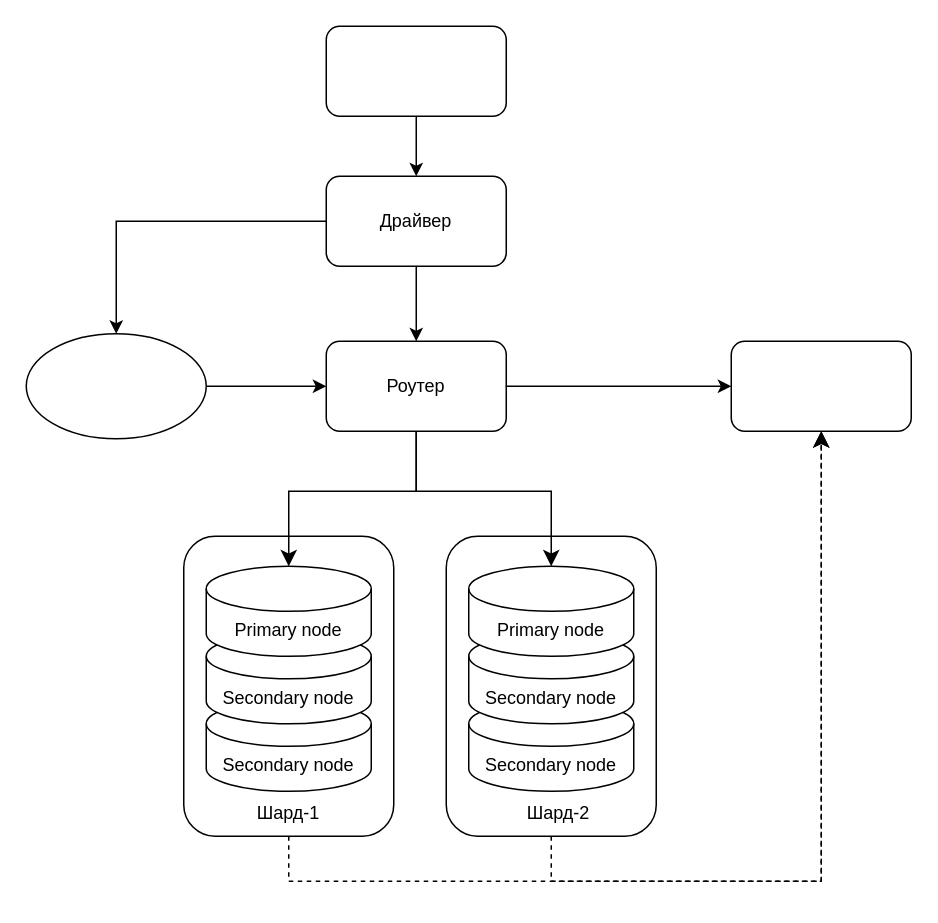
This 938x923 diagram has some shape labels left out. The box of each missing label's shape, as (x1, y1, x2, y2) in pixels:
pymongo-api: (325, 25, 506, 116)
Redis (кеш): (25, 332, 206, 439)
Конфигурационный сервер: (730, 340, 911, 431)
